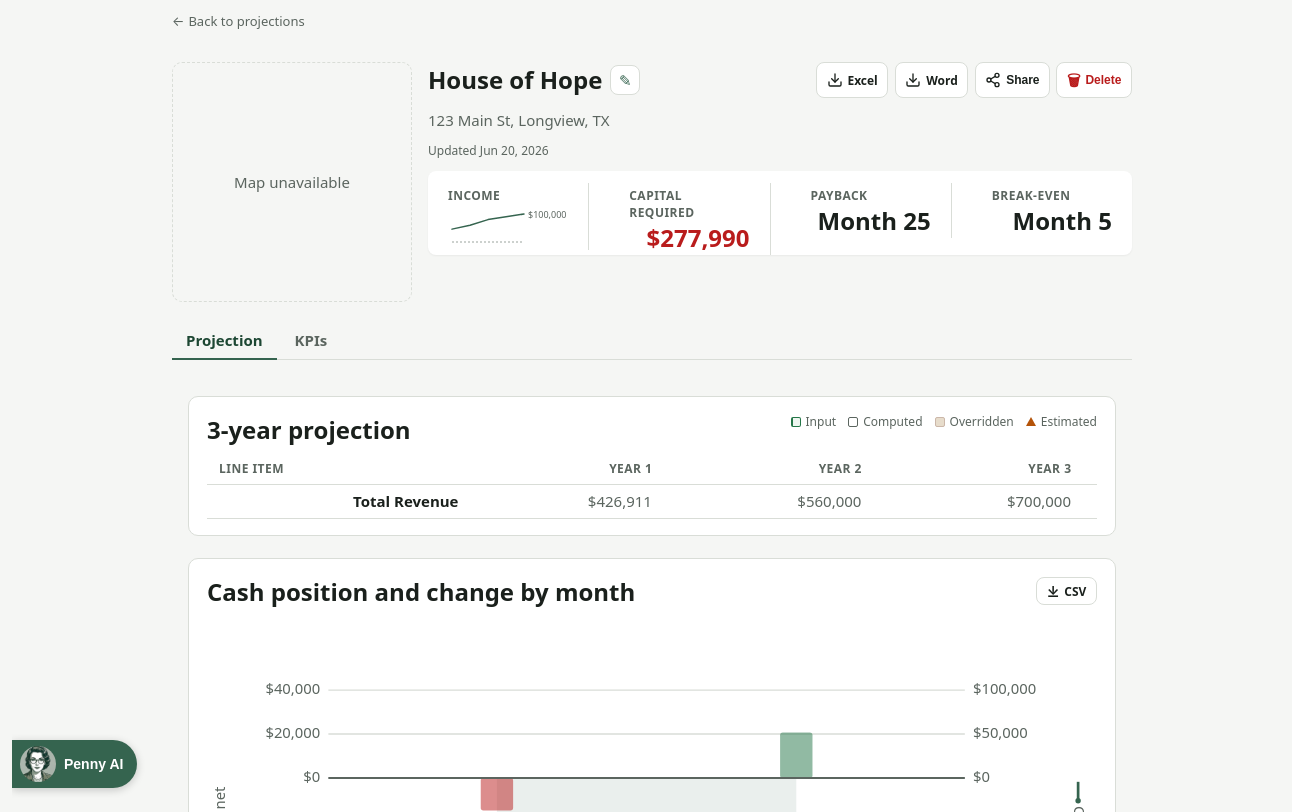
Scenario: ProjectionDetail — D1 header + D9 downloads › D1/Decision 13: the always-on 'Store name' input is gone; a pencil reveals the rename input
The image size is (1292, 812).
Expected: the element with test id "decision-banner" is shown, [428,171,1132,255]
Click the button with test id "rename-projection" at (625, 80), box [610,65,640,95]
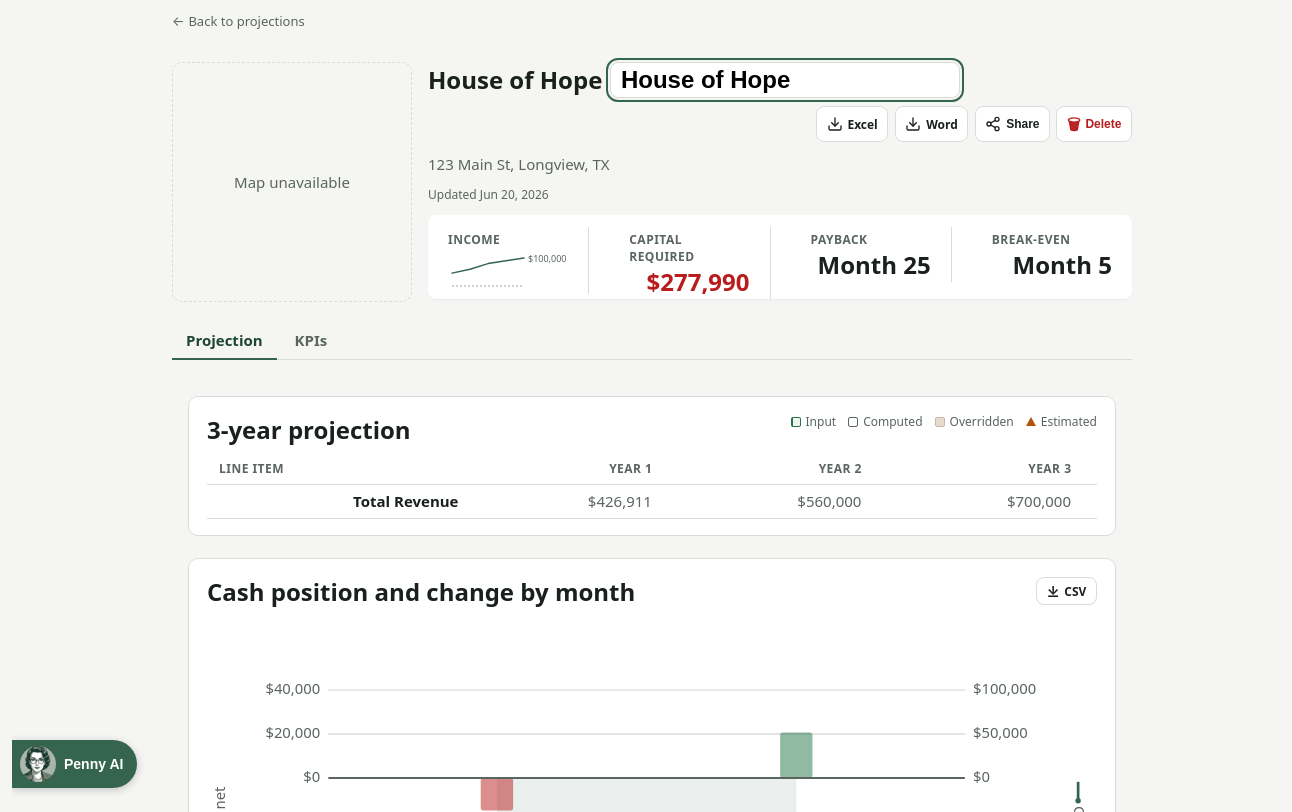
Expected: the field named "Store name" is shown, [610,62,960,98]
